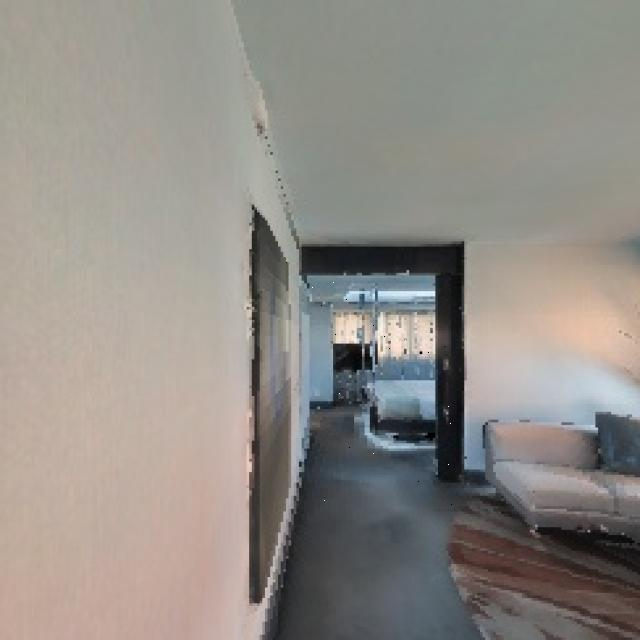door-frame: (285, 255, 452, 512)
